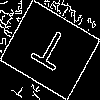T: (25, 25, 72, 80)
